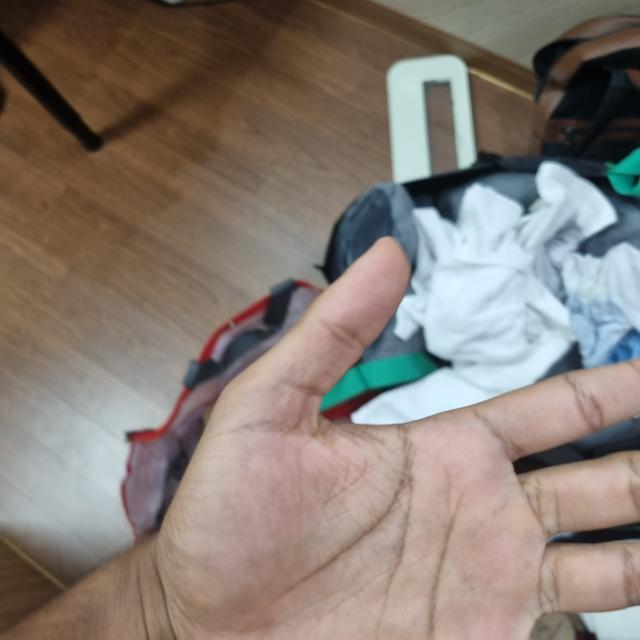Paper: (2, 237, 636, 639)
